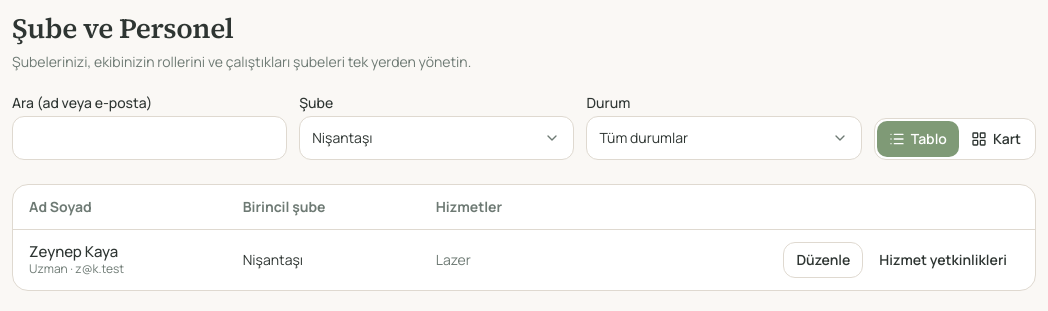
Scenario: personel › liste SEÇİLİ ŞUBEYLE isteniyor; "Tüm şubeler" süzgeçsiz istiyor
The image size is (1048, 311).
Expected: the text "Zeynep Kaya" is shown, [29,241,118,262]
Select "Bodrum" in the dropdown labelled "Şube" at (437, 138), box [299,116,574,160]
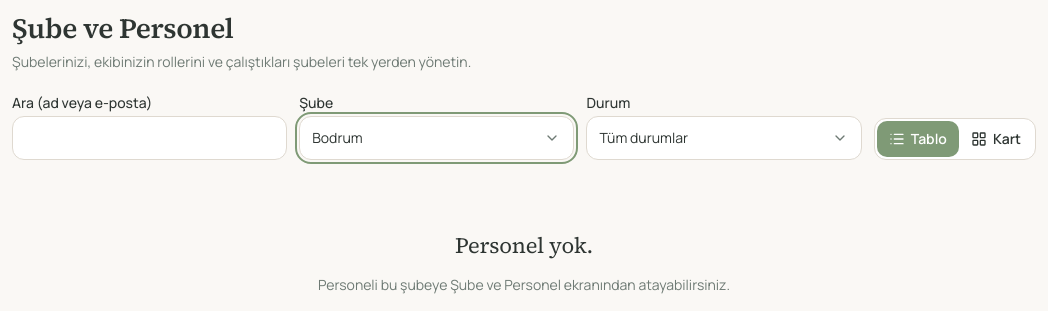
Result: the heading "Personel yok." is shown at [455,232,593,259]
Select "Tüm şubeler" in the dropdown labelled "Şube" at (437, 138), box [299,116,574,160]
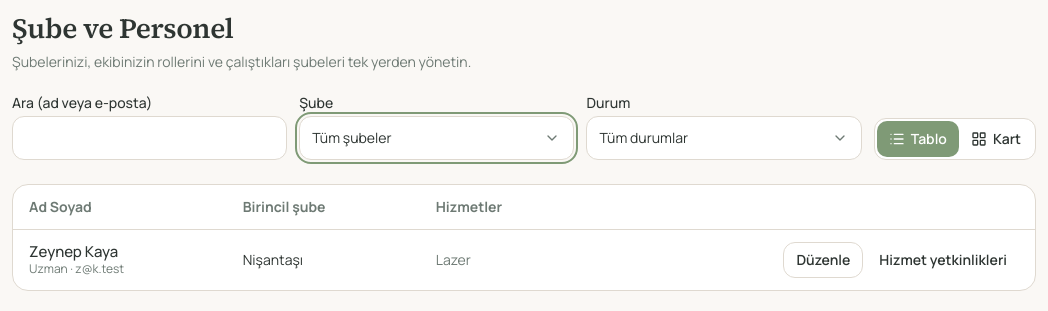
Result: the text "Zeynep Kaya" is shown at [29,241,118,262]
